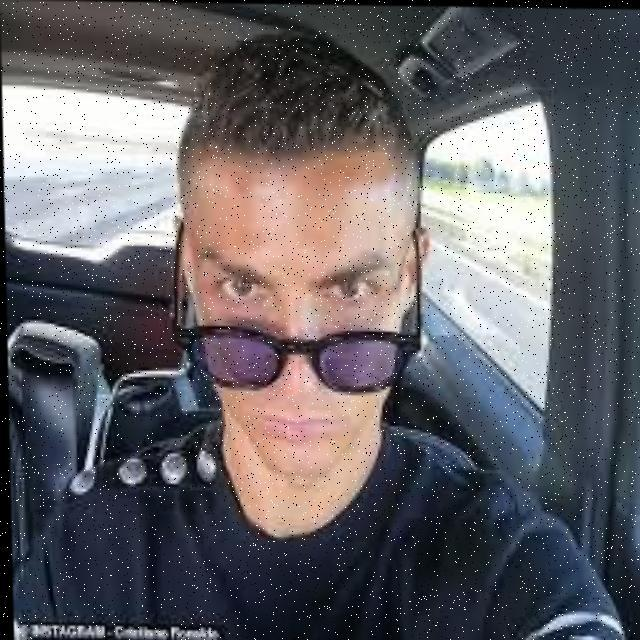noSeatbelt: (7, 383, 640, 632)
